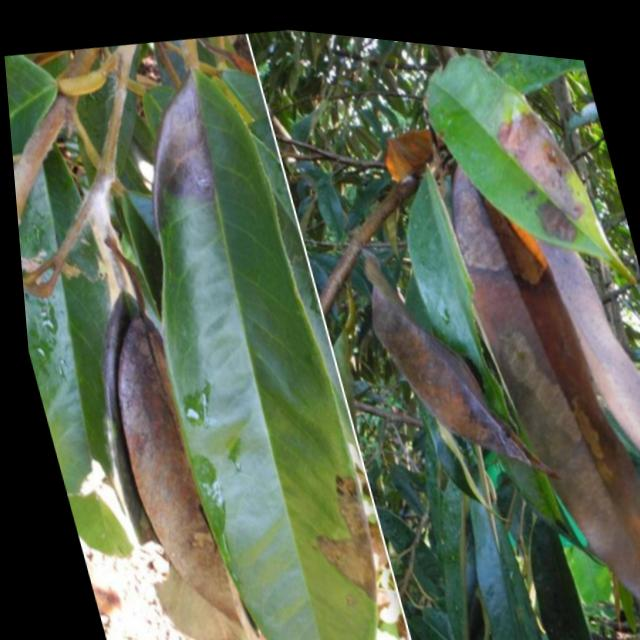Leaf Blight: (335, 226, 544, 504), (388, 116, 554, 367), (260, 426, 419, 640), (55, 275, 208, 497), (474, 51, 615, 280), (116, 52, 251, 262), (557, 359, 640, 588)
